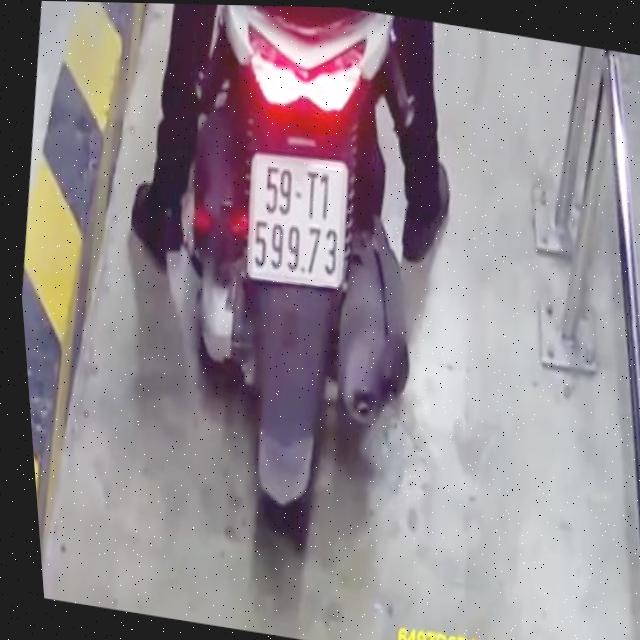motorcycle: (113, 3, 477, 553)
plate: (228, 143, 362, 293)
